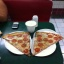pepperoni: (43, 37, 53, 44), (13, 39, 23, 44), (21, 43, 27, 49), (35, 46, 40, 53), (37, 37, 43, 42)
pizza: (4, 28, 61, 51)
